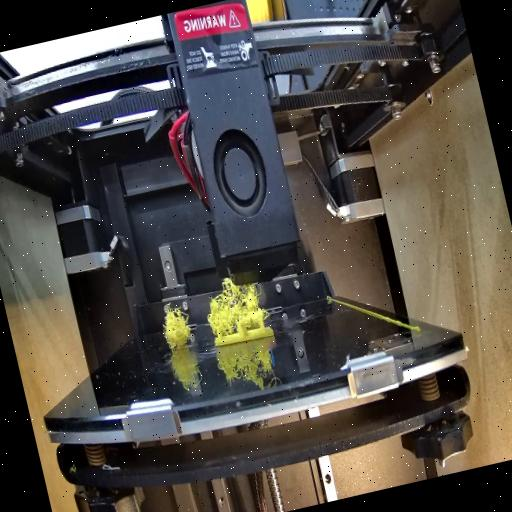spaghetti: (199, 270, 270, 334), (154, 298, 200, 352)
